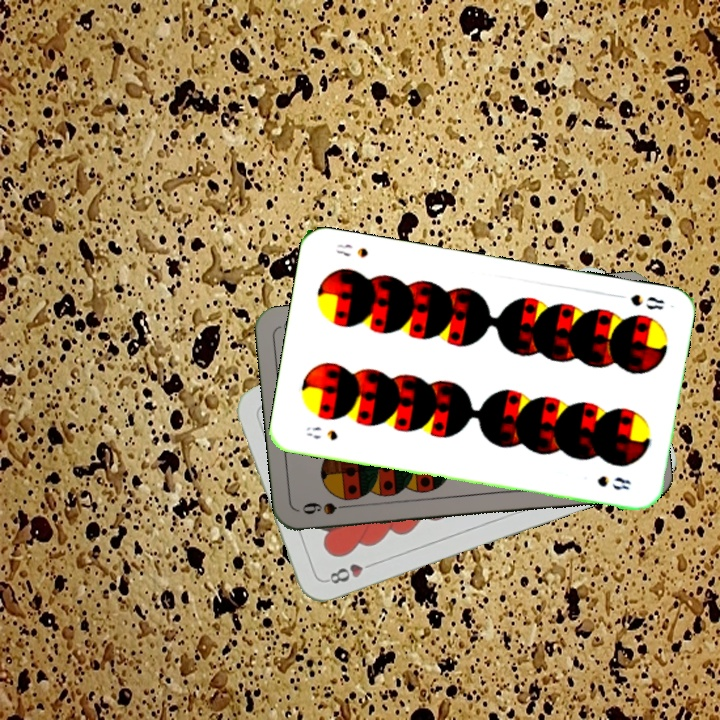H8: (322, 557, 379, 587)
S8: (611, 290, 667, 313), (302, 422, 340, 443)
S9: (298, 498, 357, 518)
